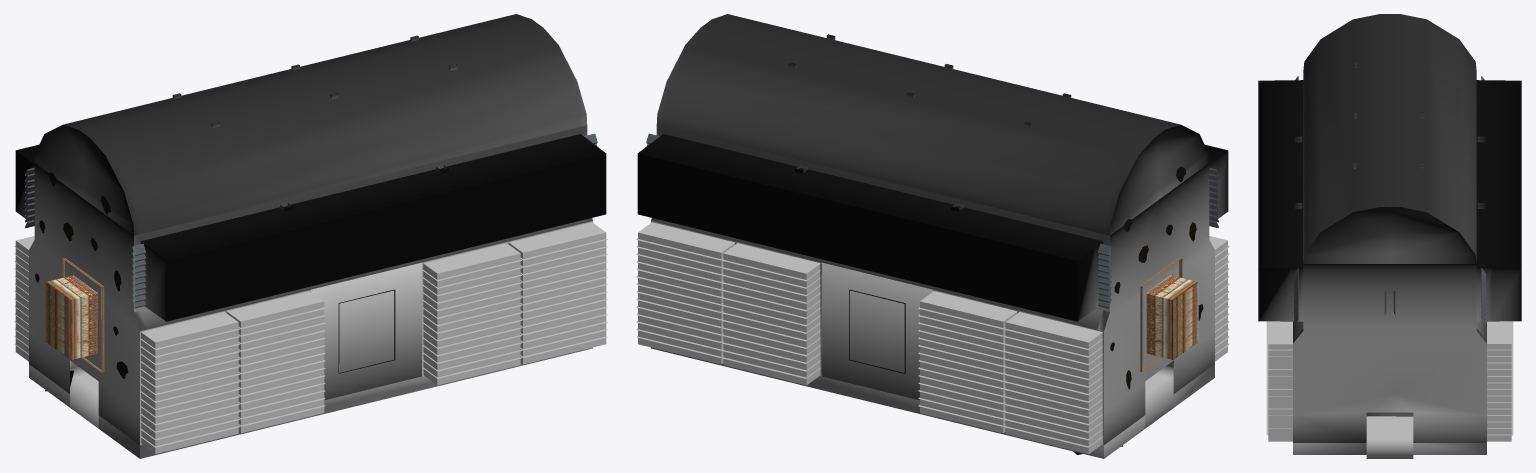
Rendered from office_skull_boss_room.fbx.
3 views of the same model, side by side, from view 1: azimuth 30°, elevation 25°; view 2: azimuth 150°, elevation 25°; view 3: azimuth 270°, elevation 25° (orthographic). The views are drawn at different scales.
Visible parts, largest first — view 1: Building, Bookshelves, LB_PictureFrame, WindowShutters, Floor, TV; view 2: Building, Bookshelves, LB_PictureFrame, WindowShutters, Floor, TV; view 3: Building, Bookshelves, Floor, WindowShutters.
Part boxes in pixels (x1=…): Building: x1=15, y1=14, x2=606, y2=458; Bookshelves: x1=14, y1=221, x2=607, y2=453; LB_PictureFrame: x1=45, y1=258, x2=104, y2=372; WindowShutters: x1=25, y1=133, x2=597, y2=308; Floor: x1=70, y1=366, x2=98, y2=428; TV: x1=35, y1=172, x2=128, y2=378; Building: x1=637, y1=14, x2=1228, y2=458; Bookshelves: x1=636, y1=221, x2=1229, y2=454; LB_PictureFrame: x1=1140, y1=257, x2=1198, y2=371; WindowShutters: x1=646, y1=133, x2=1218, y2=308; Floor: x1=1145, y1=366, x2=1173, y2=428; TV: x1=1110, y1=166, x2=1203, y2=389; Building: x1=1258, y1=14, x2=1521, y2=454; Bookshelves: x1=1266, y1=321, x2=1513, y2=441; Floor: x1=1366, y1=416, x2=1413, y2=458; WindowShutters: x1=1294, y1=76, x2=1485, y2=324.
Size of the model in its own units: 4586 by 2551 by 2449.
